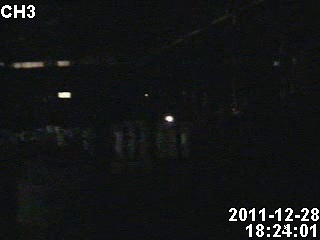fire: (159, 110, 179, 126)
